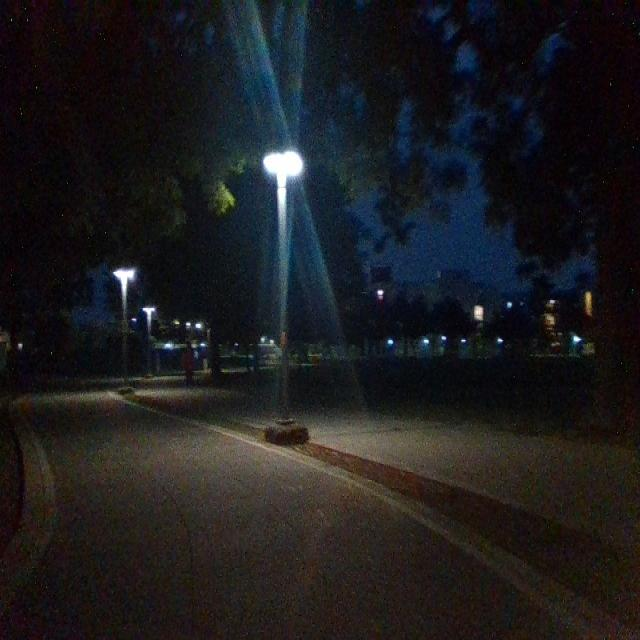lane: (10, 390, 573, 632)
